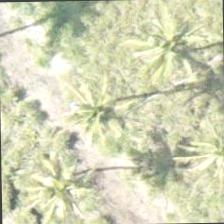Kelapa_Sawit: (123, 1, 215, 93), (51, 68, 143, 160), (17, 148, 110, 223), (174, 104, 223, 197)
